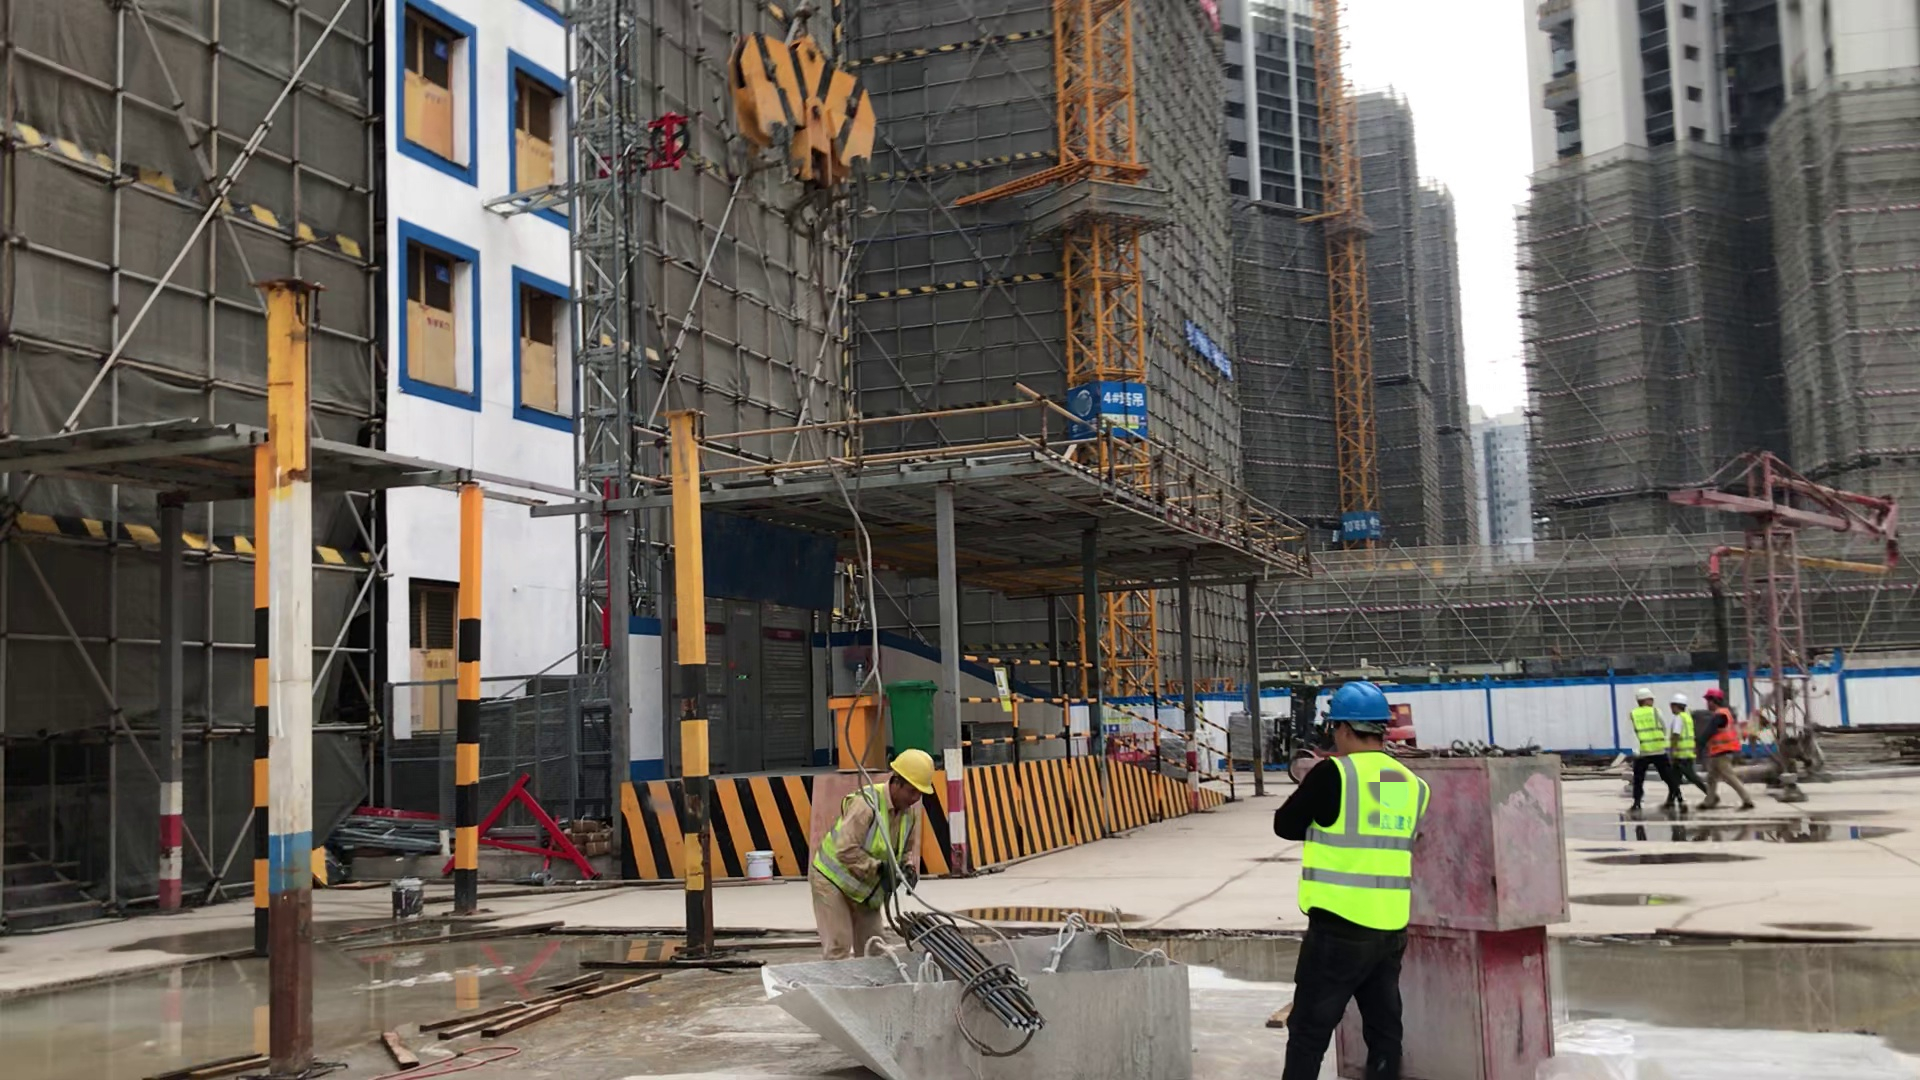fence: (954, 649, 1244, 805)
helmet: (1324, 677, 1402, 726), (885, 741, 947, 793), (1697, 685, 1730, 711), (1634, 684, 1657, 708), (1665, 688, 1691, 707)
hook: (696, 23, 900, 245)
hopper: (738, 912, 1217, 1080)
person: (1244, 668, 1450, 1080), (794, 726, 962, 970), (1702, 688, 1767, 837), (1616, 674, 1671, 838), (1665, 683, 1719, 833)
rebar: (894, 908, 1068, 1046)
slogan: (1056, 370, 1169, 478), (1158, 311, 1246, 401), (1318, 489, 1385, 565), (1172, 1, 1237, 41)
vest: (1276, 753, 1433, 943), (807, 781, 926, 918), (1624, 703, 1669, 758), (1701, 703, 1741, 758), (1670, 710, 1696, 762)
